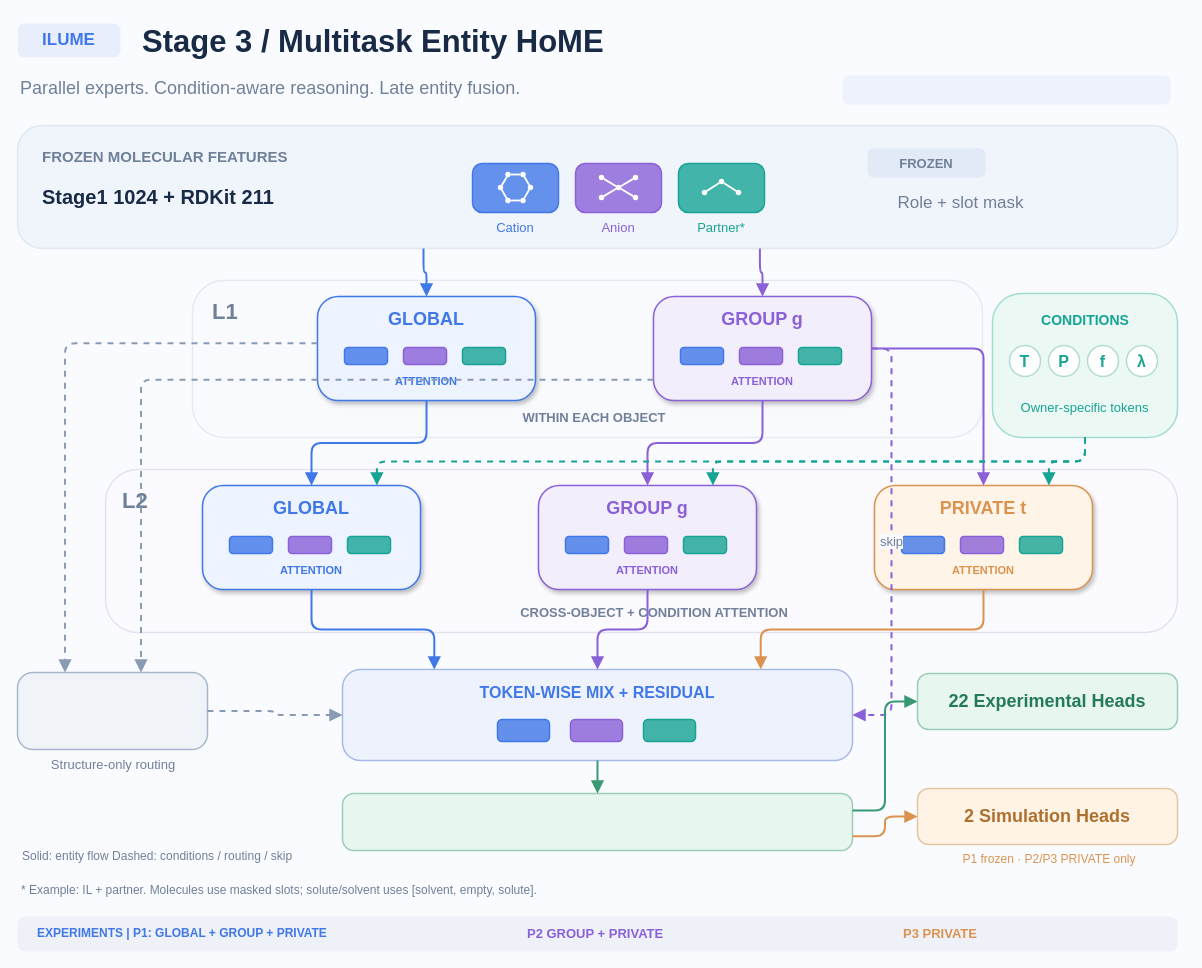
The diagram is 1202 pixels wide and 968 high, and some of its shapes have lost their labels. Here are the shapes that lost their labels. From the top down, the centre of each, then its label:
At [1006,89]: "1024D · 8 HEADS · 2 BLOCKS".
At [112,710]: "Task Gate t".
At [597,821]: "CONCAT → TASK TOWER".
